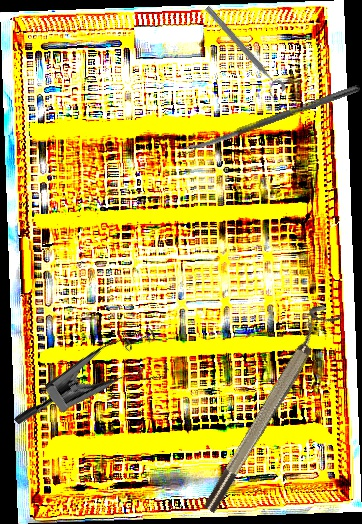Fixation Ring: (191, 300, 342, 516), (197, 3, 288, 100)
Speculum: (12, 304, 182, 474)
Surgical Spoon: (182, 83, 361, 155)
